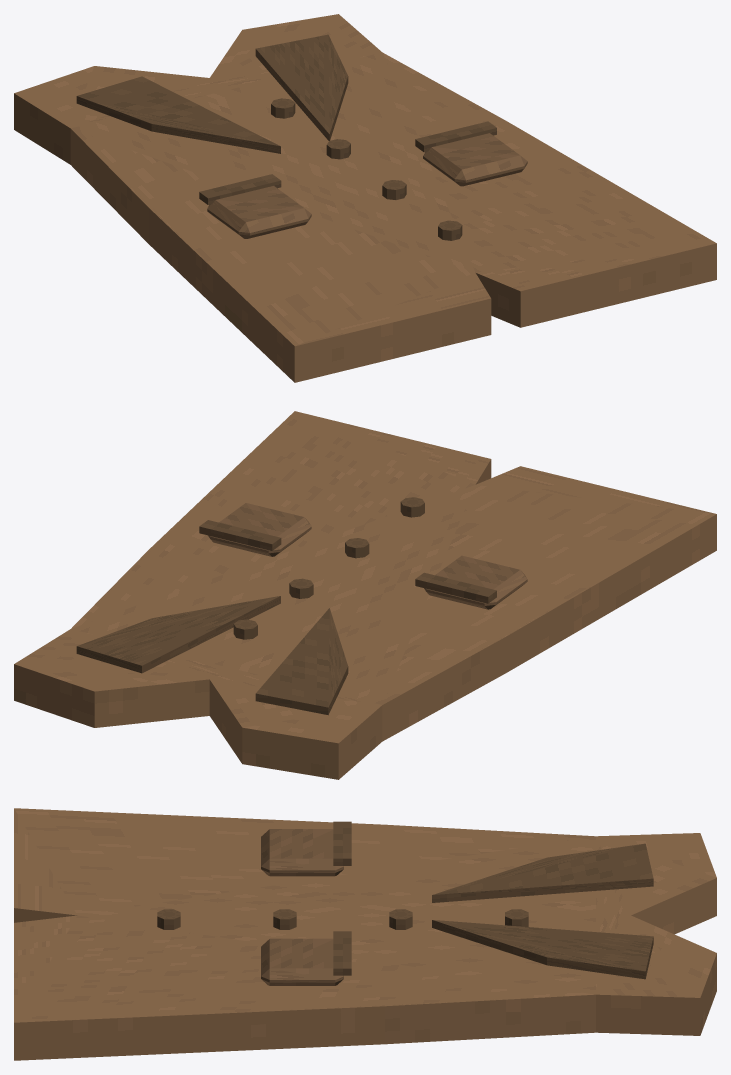
Rendered from sleeveless_trenchcoat_leather.glb.
The picture shows the model from 3 angles, top to bottom: view 1: azimuth 30°, elevation 25°; view 2: azimuth 150°, elevation 25°; view 3: azimuth 270°, elevation 25°; orthographic projection. The views are drawn at different scales.
Visible parts, largest first — view 1: block_coat body, block_lapel (×2), block_patch pocket (×2), block_pocket welt (×2); view 2: block_coat body, block_lapel (×2), block_patch pocket (×2), block_pocket welt (×2); view 3: block_coat body, block_lapel (×2), block_patch pocket (×2), block_pocket welt (×2), block_button (×3).
Part boxes in pixels (x1,y1,x2,y2): block_coat body: (14, 14, 716, 382); block_lapel (×2): (76, 34, 348, 153); block_patch pocket (×2): (207, 133, 527, 238); block_pocket welt (×2): (199, 121, 496, 204); block_coat body: (14, 411, 716, 779); block_lapel (×2): (76, 596, 348, 715); block_patch pocket (×2): (208, 503, 527, 609); block_pocket welt (×2): (199, 520, 496, 603); block_coat body: (14, 808, 716, 1060); block_lapel (×2): (432, 843, 653, 979); block_patch pocket (×2): (261, 829, 343, 985); block_pocket welt (×2): (333, 821, 351, 975); block_button (×3): (157, 909, 412, 929).
Bounding box in the file's own units: 0.5557 × 0.0705 × 0.7694.
1 material, 1 textured.
